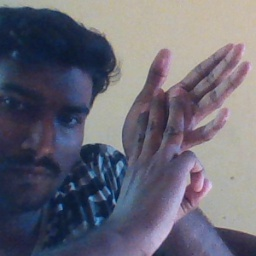M: (123, 44, 252, 230)
